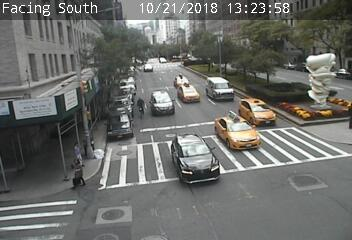car: (172, 134, 218, 184), (215, 113, 259, 150), (239, 98, 275, 126), (206, 77, 232, 100), (151, 91, 173, 116), (178, 84, 199, 102), (175, 75, 189, 89), (144, 64, 153, 71)
